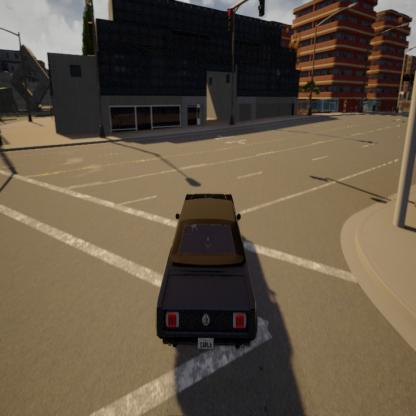Cars: (149, 186, 263, 351)
